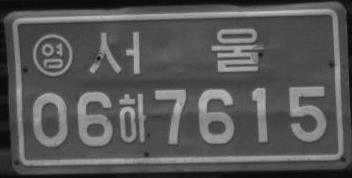0: (31, 91, 69, 149)
1: (244, 86, 278, 143)
5: (287, 84, 327, 144)
6: (75, 90, 114, 148), (197, 86, 235, 145)
7: (153, 87, 188, 146)
서울_D: (87, 26, 264, 74)
영: (32, 33, 73, 77)
하: (118, 91, 148, 143)
